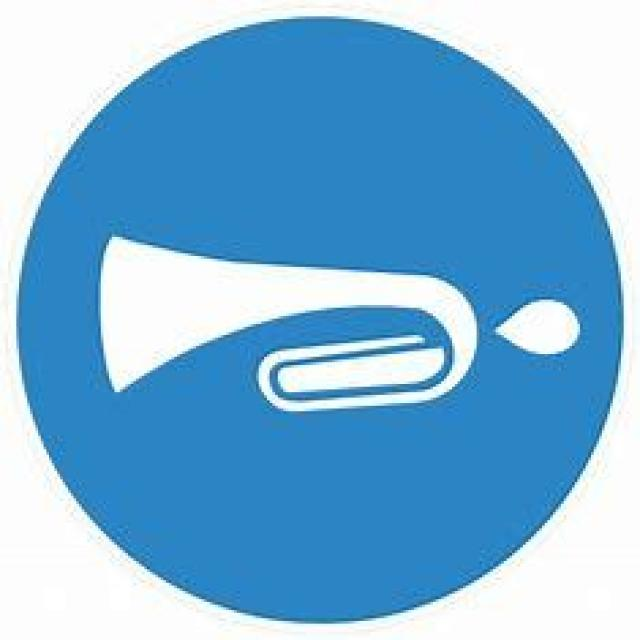COMPULSARY_SOUND_HORN: (15, 32, 638, 630)
